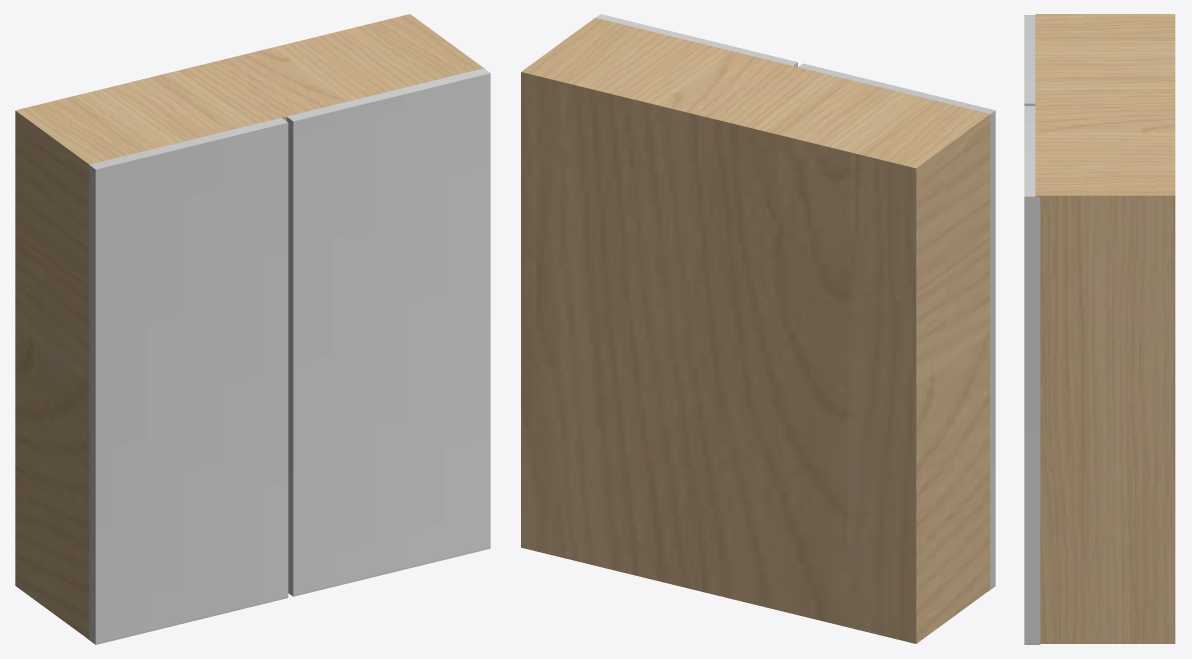
Rendered from mirror 6.glb.
3 views of the same model, side by side, from view 1: azimuth 30°, elevation 25°; view 2: azimuth 150°, elevation 25°; view 3: azimuth 270°, elevation 25° (orthographic). The views are drawn at different scales.
Parts seen in each view (by area): view 1: mirror, frame-1; view 2: frame-1, mirror; view 3: frame-1, mirror.
Boxes of the visible parts, <box> form: mirror: <box>88,68,490,644</box>; frame-1: <box>15,14,484,639</box>; frame-1: <box>521,17,990,643</box>; mirror: <box>595,14,995,591</box>; frame-1: <box>1035,14,1175,643</box>; mirror: <box>1024,15,1040,644</box>.
Bounding box in the file's own units: 31.54 × 36.28 × 11.25.
2 materials, 2 textured.
